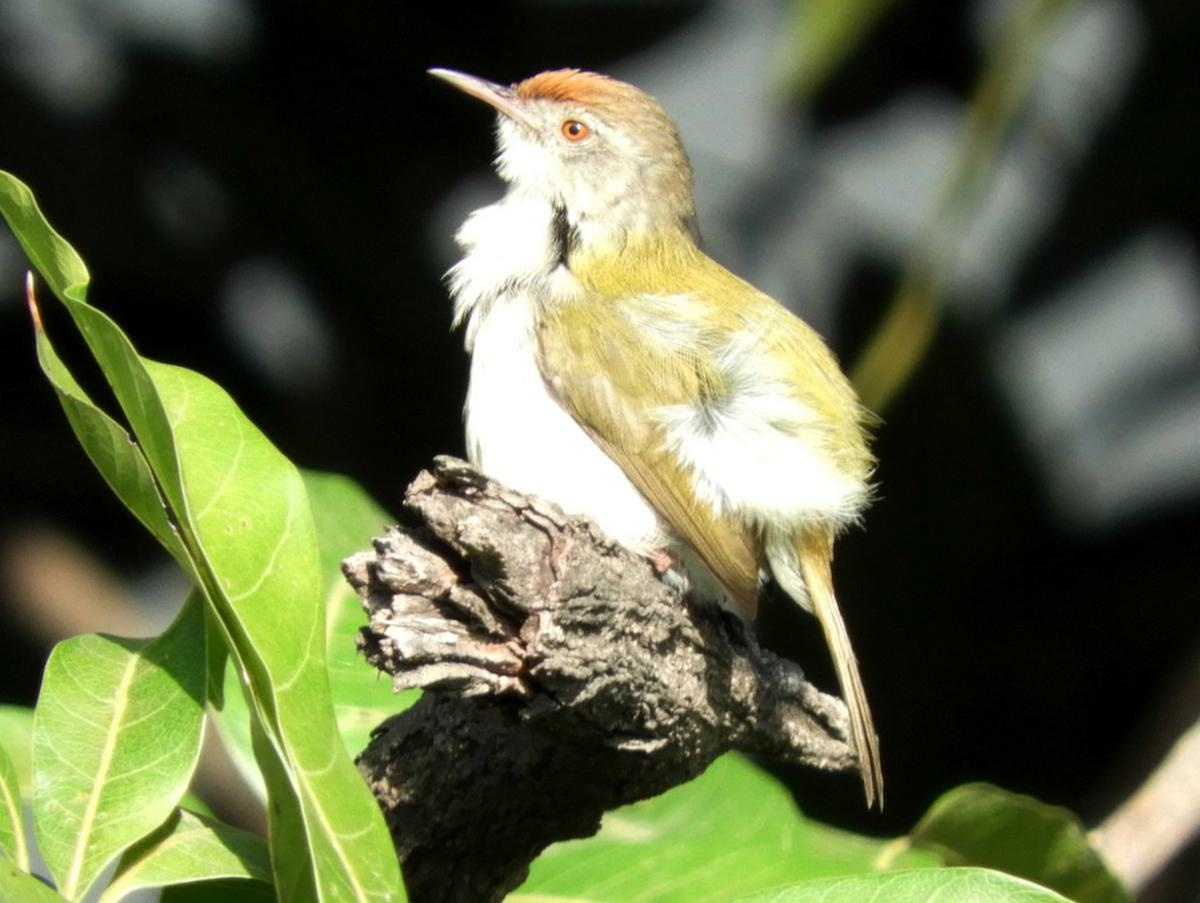tailorbird: (414, 39, 930, 718)
